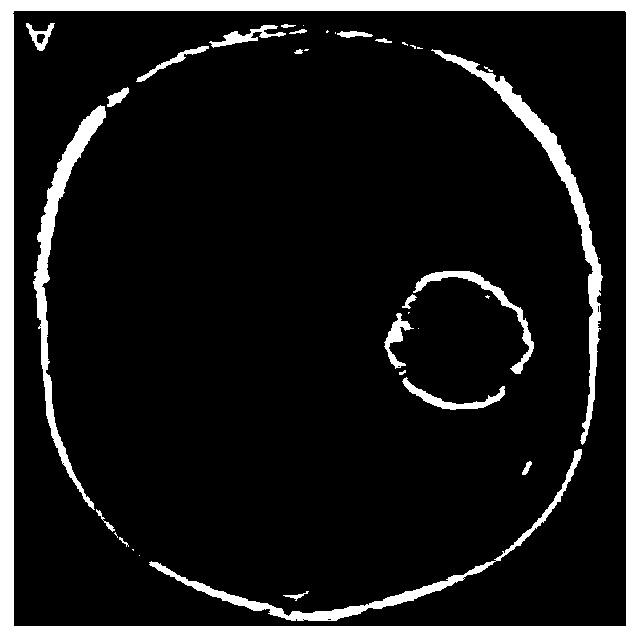Brain-Tumor: (370, 252, 552, 421)
